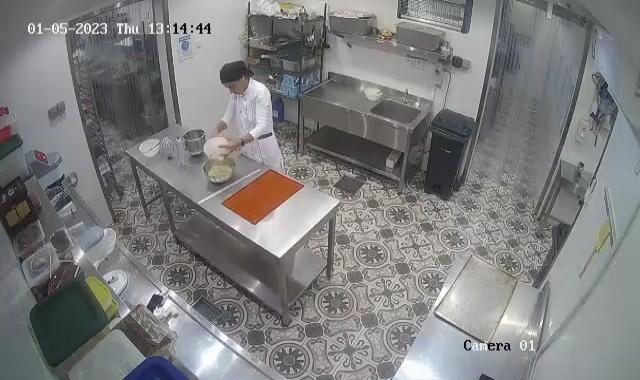no_hairnet: (219, 59, 254, 85)
